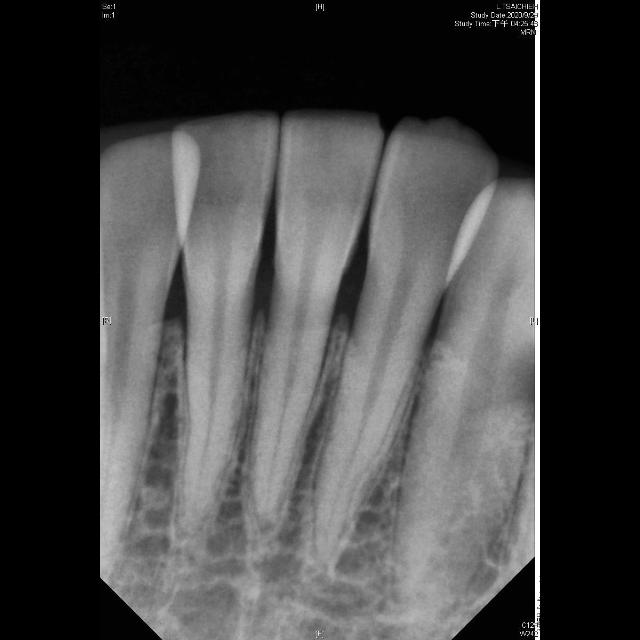tooth: (301, 111, 504, 577), (242, 103, 390, 542), (166, 105, 280, 548)
